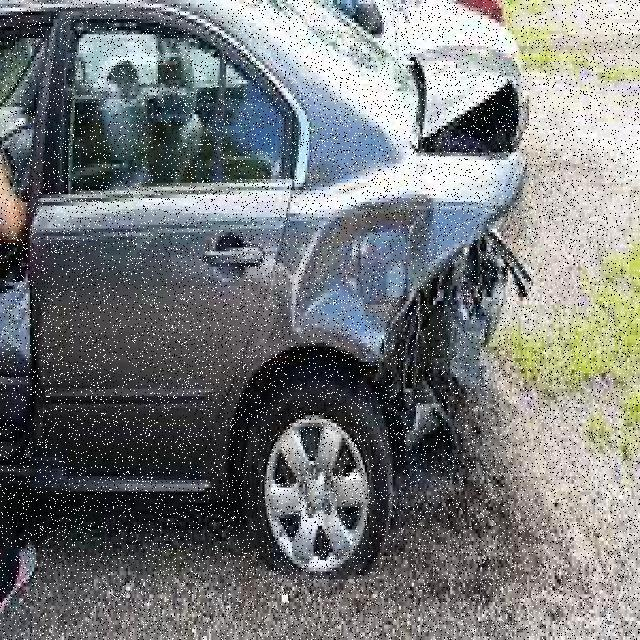quaterpanel-dent: (286, 164, 440, 374)
